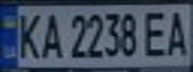2: (84, 9, 106, 60), (66, 9, 87, 60)
3: (103, 9, 124, 58)
8: (118, 9, 142, 58)
A: (36, 9, 66, 60), (163, 7, 193, 57)
E: (139, 7, 172, 57)
K: (12, 9, 45, 61)
